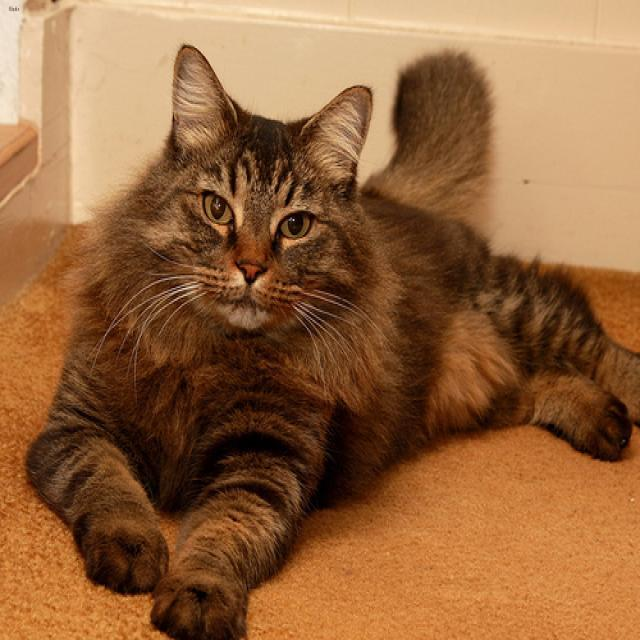Maine_Coon: (127, 44, 376, 346)
